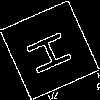H: (25, 25, 82, 77)
